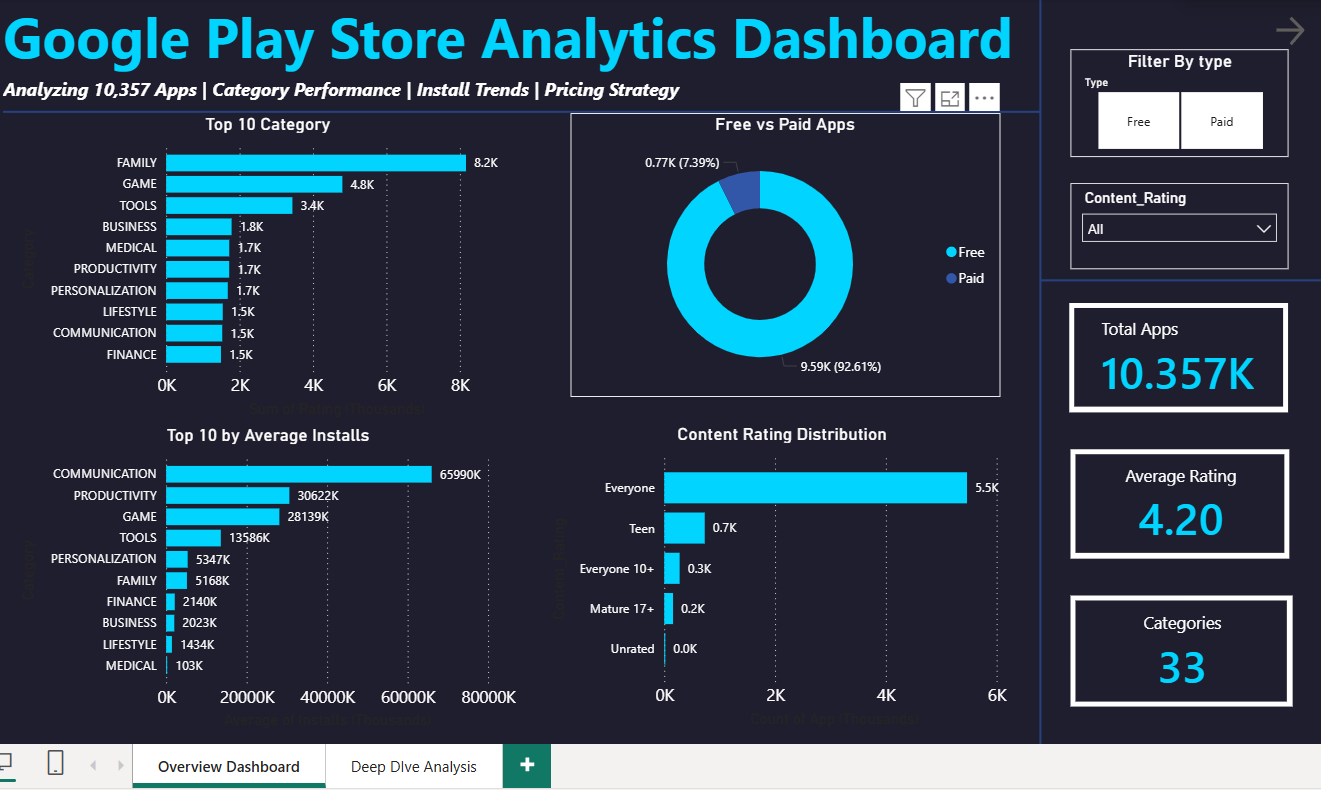

This screenshot's page, from the dashboard's own definition file:
{"tool":"powerbi","page":{"name":"Overview Dashboard","canvas":[1280,720],"ordinal":0},"visuals":[{"type":"textbox","title":"Google Play Store Analytics Dashboard","box":[0,0,985.7,100],"z":0},{"type":"shape","box":[4.3,97.1,1001.4,24.3],"z":1000},{"type":"cardVisual","fields":{"Data":["CountNonNull(cleaned_dataset.App)"]},"box":[1034.3,294.3,211.4,105.7],"z":2000},{"type":"cardVisual","fields":{"Data":["Avg(cleaned_dataset.Rating)"]},"box":[1035.7,435.7,211.4,105.7],"z":3000},{"type":"cardVisual","fields":{"Data":["Count(cleaned_dataset.Category)"]},"box":[1035.7,577.1,214.3,107.1],"z":4000},{"type":"clusteredBarChart","title":"Top 10 Category","fields":{"Category":["cleaned_dataset.Category"],"Y":["Sum(cleaned_dataset.Rating)"]},"box":[15.7,111.4,490,298.6],"z":5000},{"type":"donutChart","title":"Free vs Paid Apps","fields":{"Category":["cleaned_dataset.Type"],"Y":["CountNonNull(cleaned_dataset.App)"]},"box":[552.9,111.4,414.3,272.9],"z":6000},{"type":"clusteredBarChart","title":"Content Rating Distribution","fields":{"Y":["CountNonNull(cleaned_dataset.App)"],"Category":["cleaned_dataset.Content_Rating"]},"box":[528.6,410,457.1,298.6],"z":7000},{"type":"clusteredBarChart","title":"Top 10 by Average Installs","fields":{"Category":["cleaned_dataset.Category"],"Y":["Avg(cleaned_dataset.Installs)"]},"box":[15.7,411.4,490,298.6],"z":8000},{"type":"shape","box":[998.6,0,14.3,720],"z":9000},{"type":"slicer","title":"Filter By type","fields":{"Values":["cleaned_dataset.Type"]},"box":[1035.7,50,210,104.3],"z":10000},{"type":"slicer","fields":{"Values":["cleaned_dataset.Content_Rating"]},"box":[1035.7,178.6,210,82.9],"z":11000},{"type":"shape","box":[1005.7,261.4,274.3,21.4],"z":12000},{"type":"actionButton","box":[1228.6,12.9,42.9,37.1],"z":13000}]}

Visuals, with their boxes on the page's 1280x720 design canvas (x1, y1, x2, y2). These are canvas units, not pixel positions in the 1321x790 screenshot, which may show the page scaled, cropped or inside an application window:
"Google Play Store Analytics Dashboard" textbox: pyautogui.locateOnScreen(0, 0, 986, 100)
shape: pyautogui.locateOnScreen(4, 97, 1006, 121)
cardVisual - CountNonNull(cleaned_dataset.App): pyautogui.locateOnScreen(1034, 294, 1246, 400)
cardVisual - Avg(cleaned_dataset.Rating): pyautogui.locateOnScreen(1036, 436, 1247, 541)
cardVisual - Count(cleaned_dataset.Category): pyautogui.locateOnScreen(1036, 577, 1250, 684)
"Top 10 Category" clusteredBarChart: pyautogui.locateOnScreen(16, 111, 506, 410)
"Free vs Paid Apps" donutChart: pyautogui.locateOnScreen(553, 111, 967, 384)
"Content Rating Distribution" clusteredBarChart: pyautogui.locateOnScreen(529, 410, 986, 709)
"Top 10 by Average Installs" clusteredBarChart: pyautogui.locateOnScreen(16, 411, 506, 710)
shape: pyautogui.locateOnScreen(999, 0, 1013, 720)
"Filter By type" slicer: pyautogui.locateOnScreen(1036, 50, 1246, 154)
slicer - cleaned_dataset.Content_Rating: pyautogui.locateOnScreen(1036, 179, 1246, 262)
shape: pyautogui.locateOnScreen(1006, 261, 1280, 283)
actionButton: pyautogui.locateOnScreen(1229, 13, 1272, 50)
